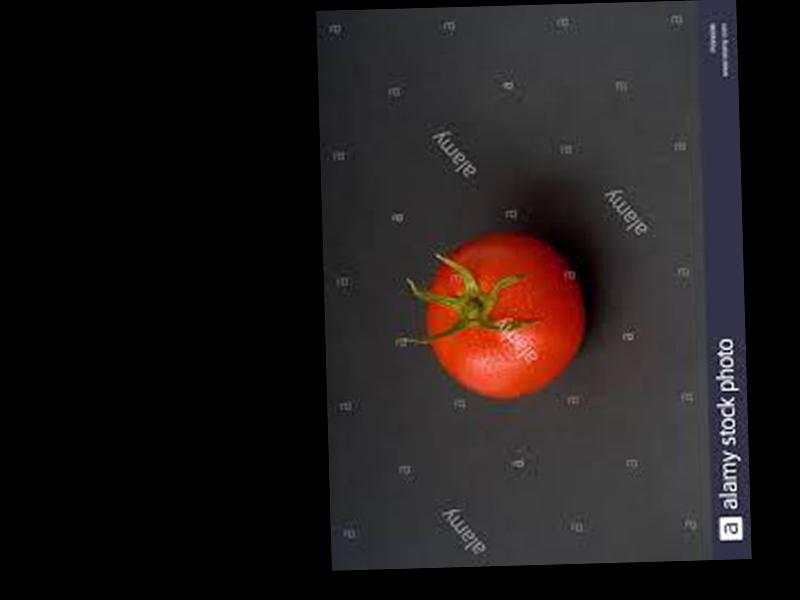Tomato: (423, 230, 581, 400)
